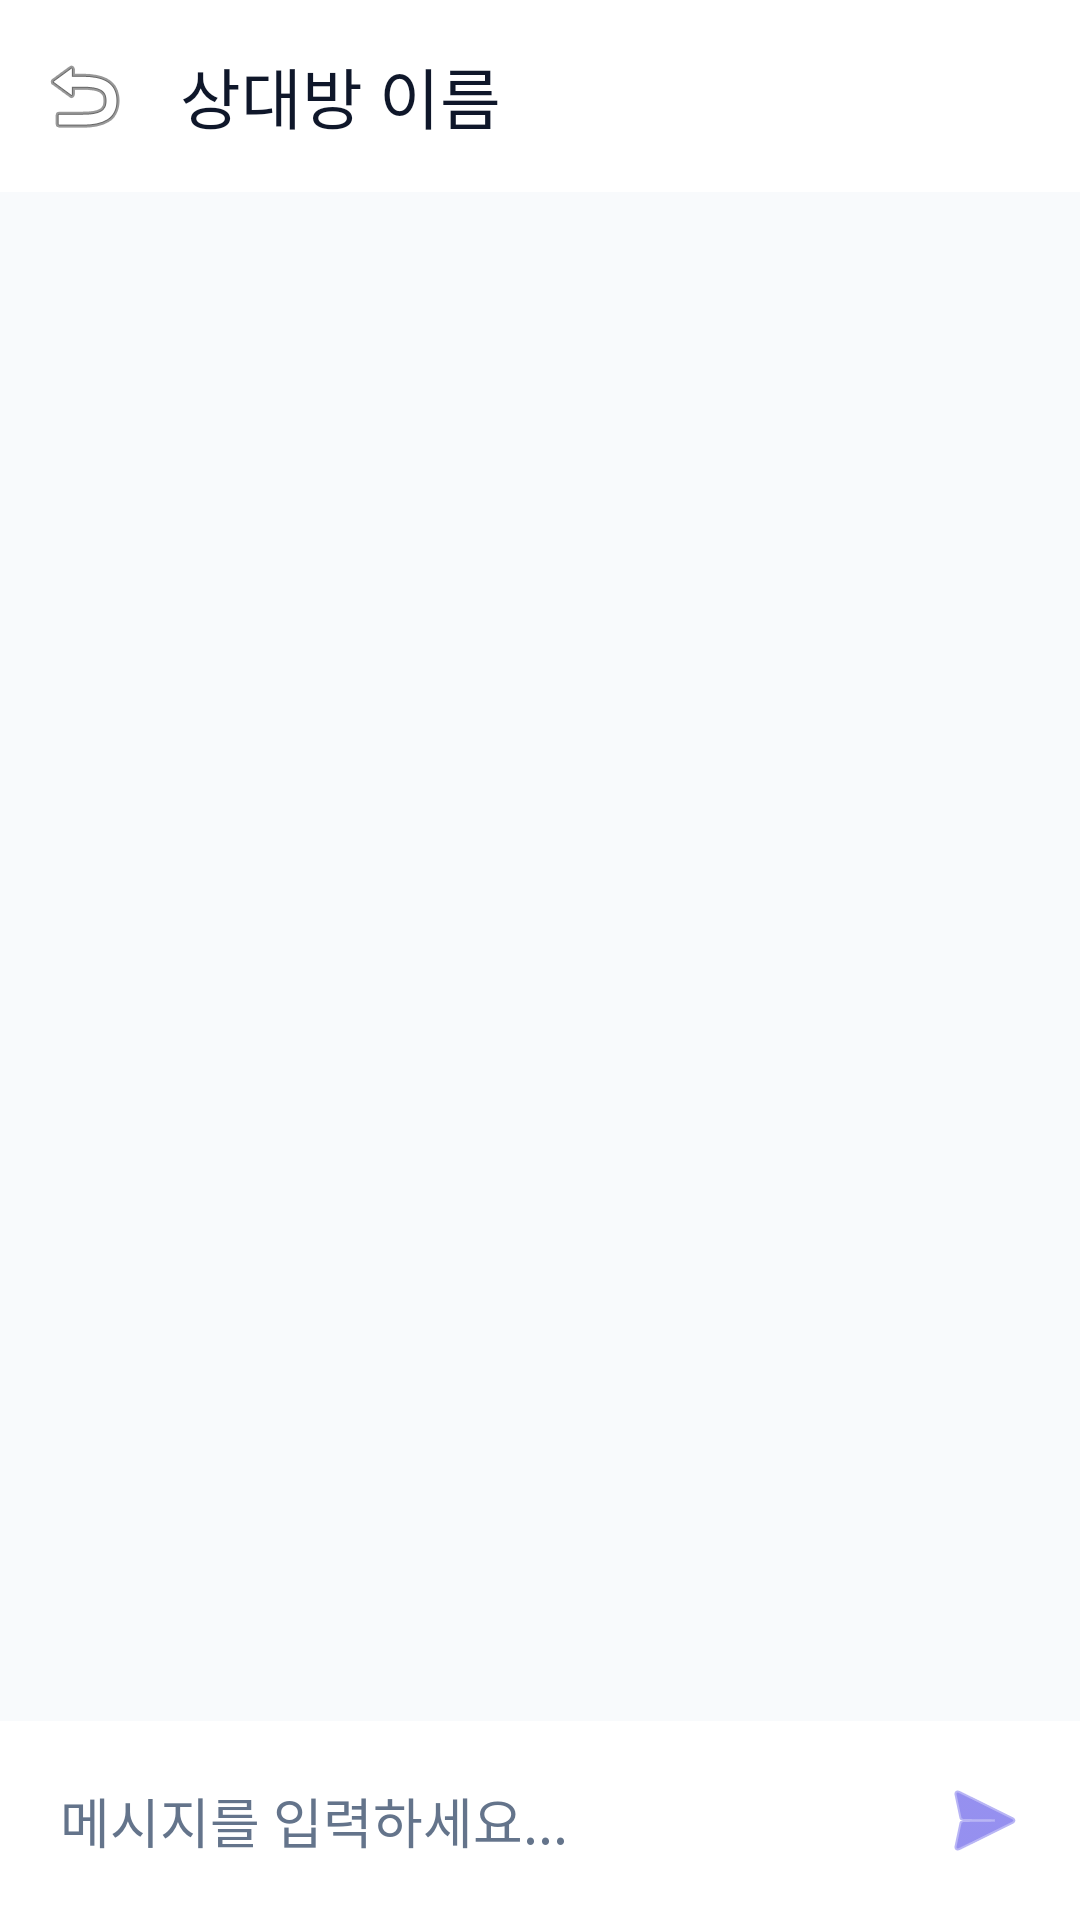

Named icons in this screenshot (1080w x 1920h) and their centers, point (x, y):
send: point (984, 1820)
